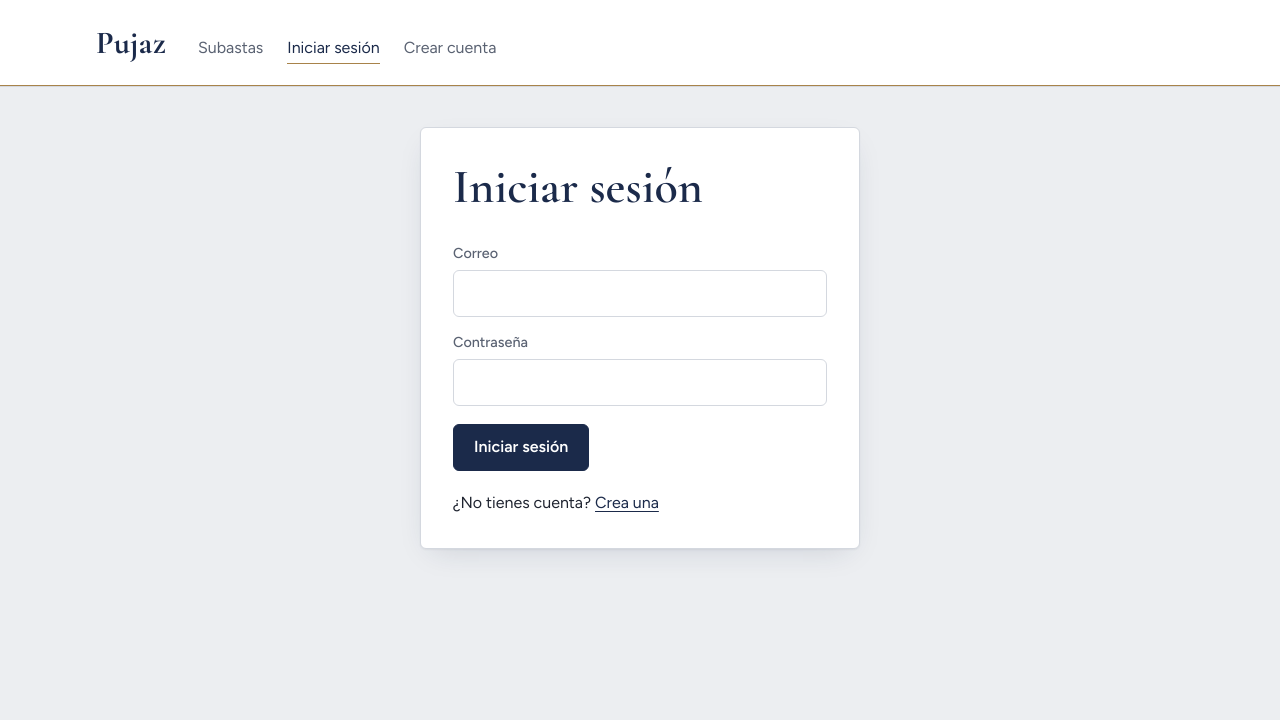
Test: LoginPage › inicia sesión, guarda el token y vuelve a las subastas
In the field labelled "Correo": (640, 294) [453,270,827,317], type "ana@correo.com"
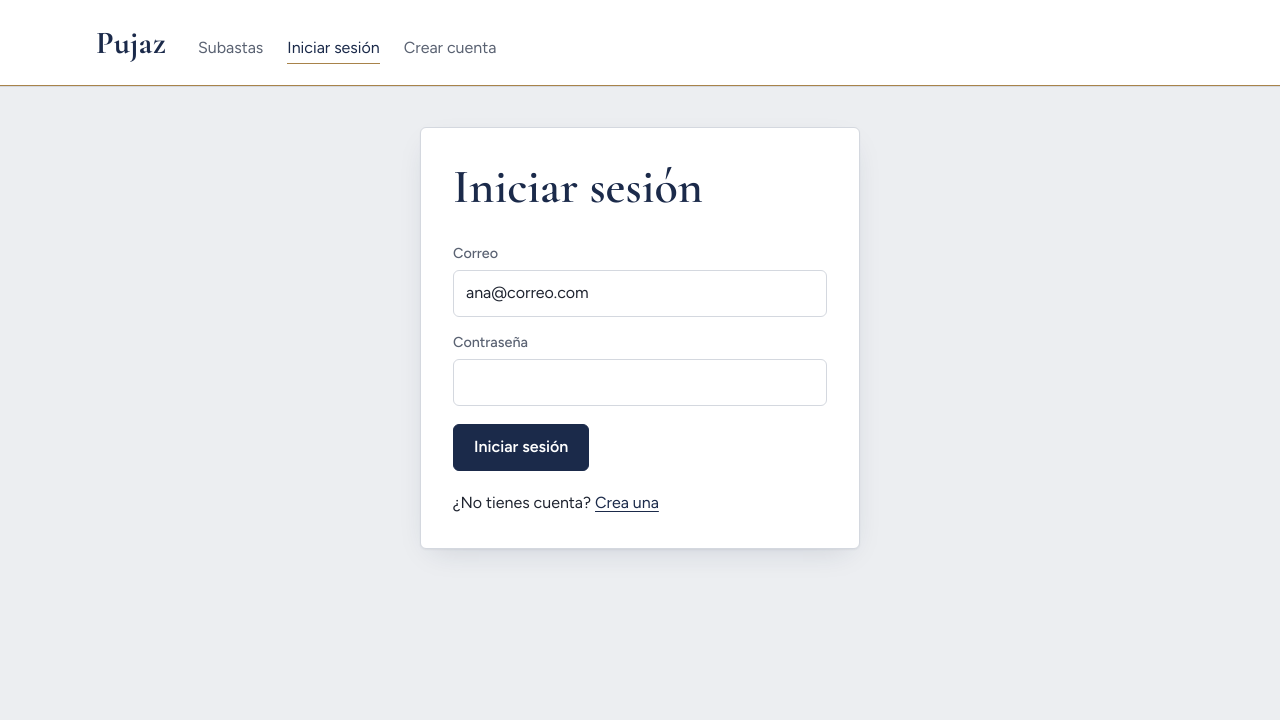
In the password field labelled "Contraseña": (640, 383) [453,359,827,406], type "secreto123"
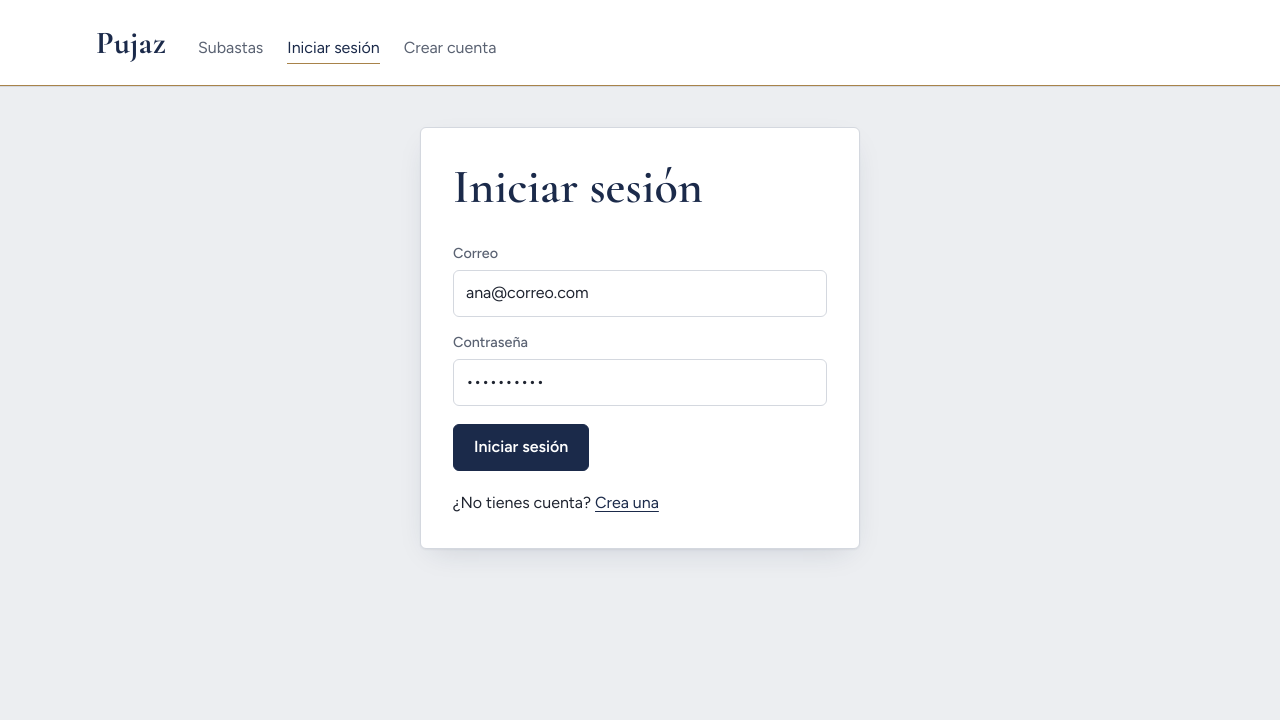
Click the button "Iniciar sesión": (521, 448) [453,424,589,471]
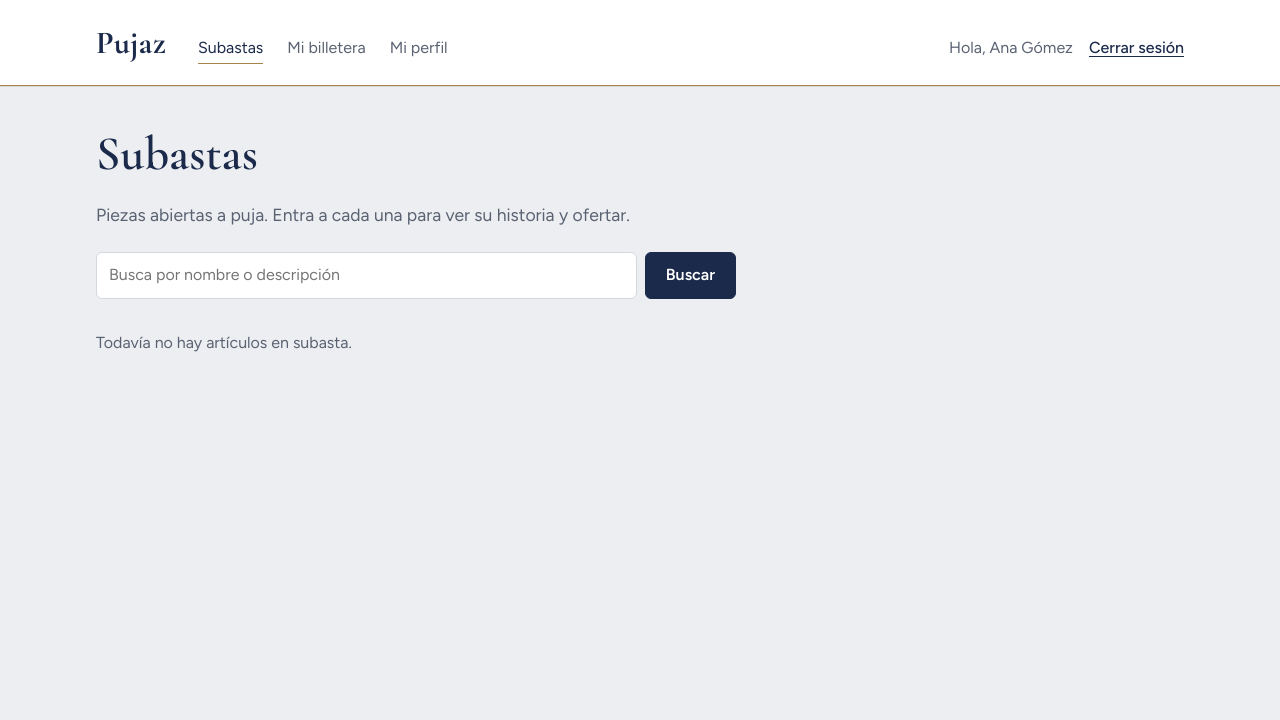
Now the text "Hola, Ana Gómez" is shown, box [949,36,1073,61]
Now the heading "Subastas" is shown, box [96,125,258,183]
